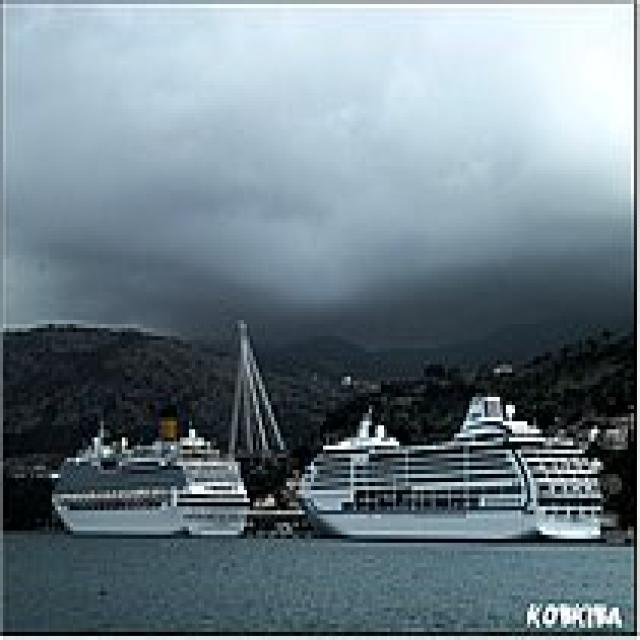Ship: (297, 386, 617, 552), (41, 410, 258, 548)
